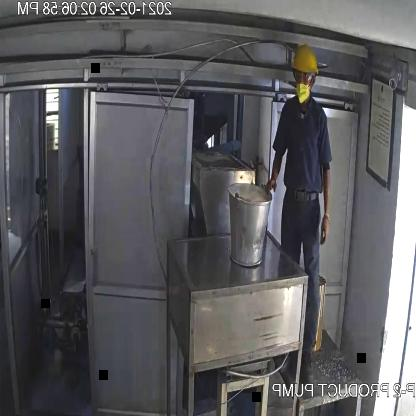helmet: (290, 45, 321, 83)
